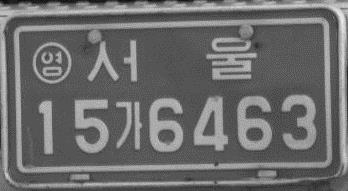1: (35, 98, 57, 156)
3: (280, 93, 318, 151)
4: (191, 93, 230, 153)
5: (72, 96, 109, 155)
6: (147, 96, 185, 153), (236, 94, 273, 152)
가: (113, 99, 144, 152)
서울_D: (84, 35, 259, 84)
영: (32, 40, 71, 85)
